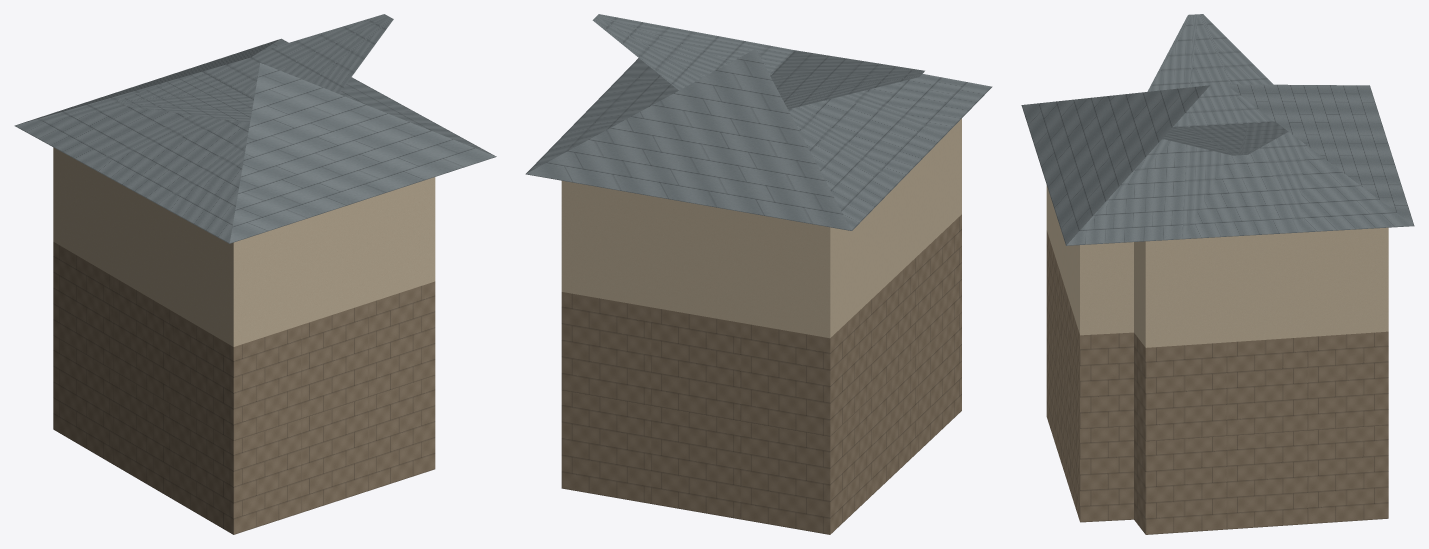
File: bld_c10_14_456.gltf
3 views of the same model, side by side, from view 1: azimuth 30°, elevation 25°; view 2: azimuth 150°, elevation 25°; view 3: azimuth 270°, elevation 25° (orthographic). The views are drawn at different scales.
Parts seen in each view (by area): view 1: bld_c10_14_456; view 2: bld_c10_14_456; view 3: bld_c10_14_456.
Part boxes in pixels (x1,y1,x2,y2): bld_c10_14_456: [14, 14, 496, 534]; bld_c10_14_456: [525, 14, 992, 534]; bld_c10_14_456: [1021, 14, 1414, 534].
Bounding box in the file's own units: 8.52 × 9.5 × 8.82.
Materials: 3 (3 with a texture image).
